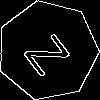Z: (23, 25, 79, 78)
